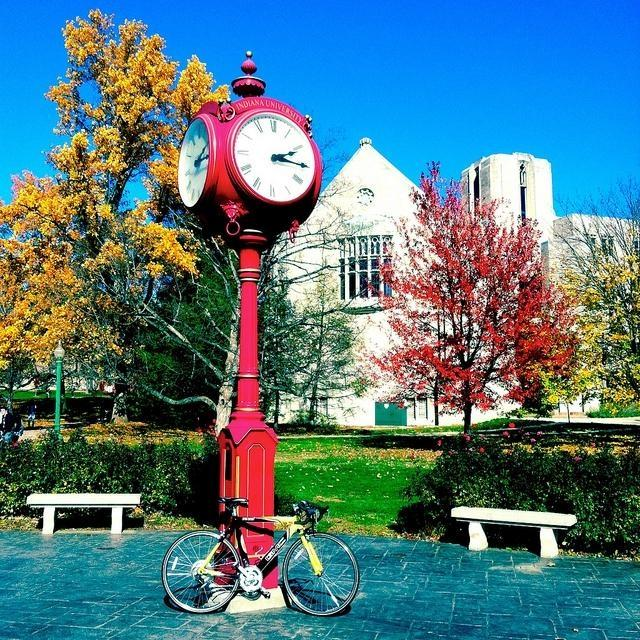bicycle: (162, 498, 358, 616)
